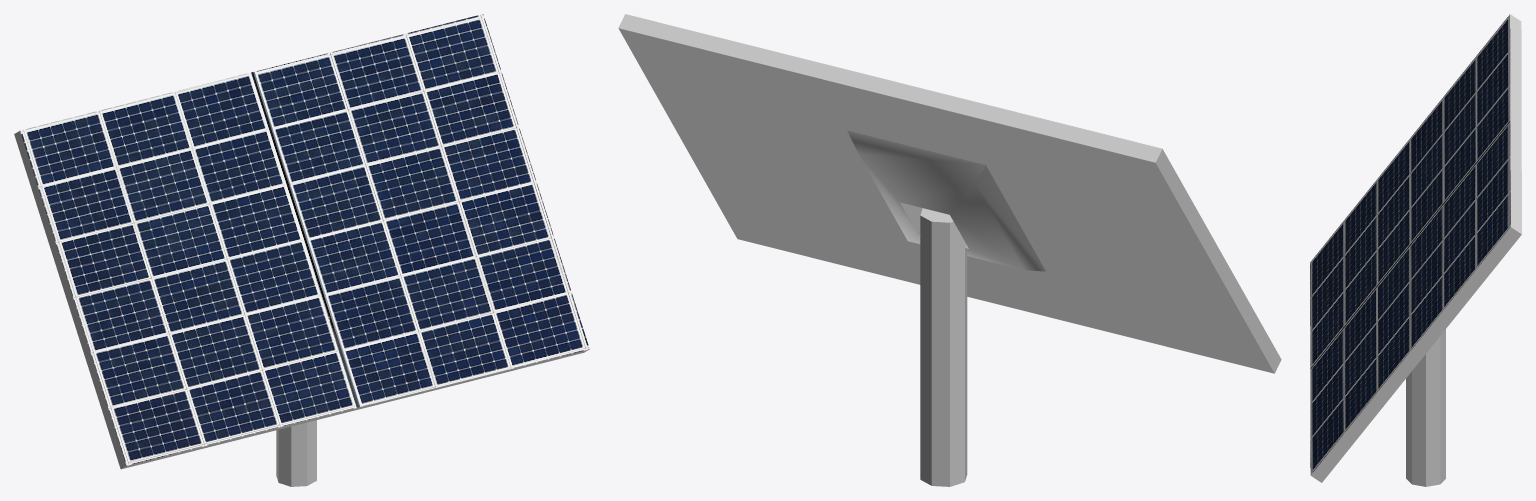
The model's file is Solar_Panel.fbx.
3 views of the same model, side by side, from view 1: azimuth 30°, elevation 25°; view 2: azimuth 150°, elevation 25°; view 3: azimuth 270°, elevation 25° (orthographic). The views are drawn at different scales.
Parts seen in each view (by area): view 1: Solar_Panel, pCylinder1; view 2: Solar_Panel, pCylinder1; view 3: Solar_Panel, pCylinder1.
Boxes of the visible parts, bbox=[...] form: Solar_Panel: bbox=[14, 14, 589, 469]; pCylinder1: bbox=[276, 420, 316, 486]; Solar_Panel: bbox=[618, 14, 1281, 373]; pCylinder1: bbox=[920, 208, 967, 486]; Solar_Panel: bbox=[1310, 14, 1521, 482]; pCylinder1: bbox=[1406, 329, 1445, 486].
Bounding box in the file's own units: 2.27 × 1.75 × 0.9385.
2 materials, 1 textured.
